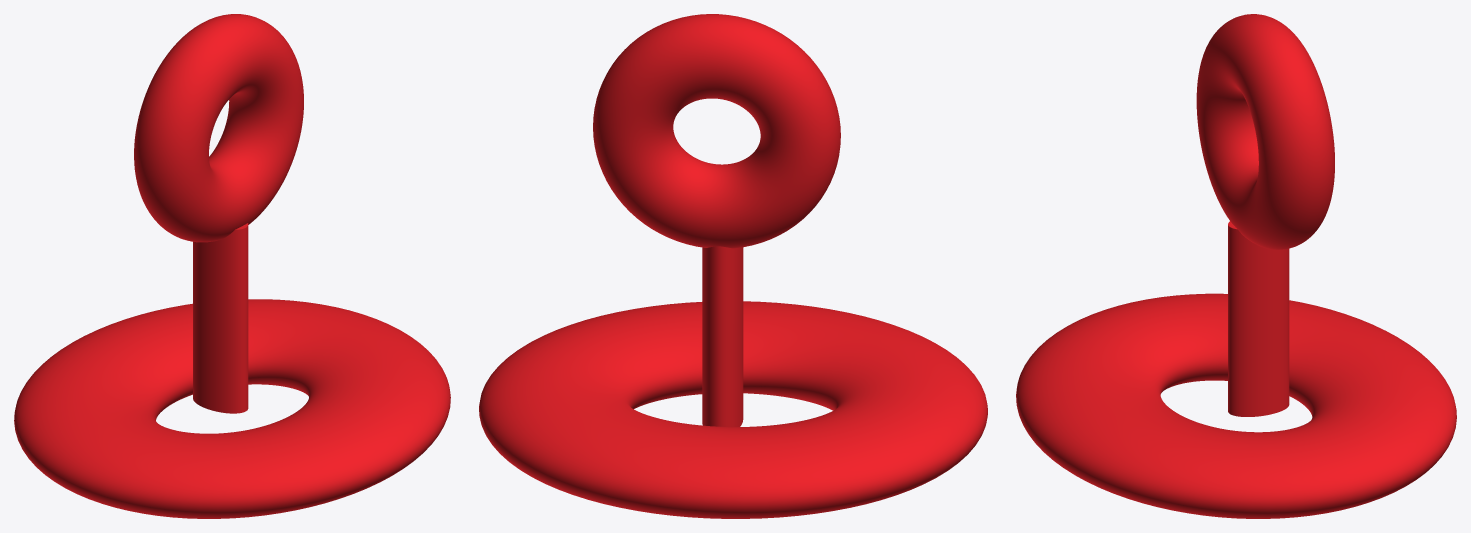
File: asset.glb
The picture shows the model from 3 angles, left to right: view 1: azimuth 30°, elevation 25°; view 2: azimuth 150°, elevation 25°; view 3: azimuth 270°, elevation 25°; orthographic projection. The views are drawn at different scales.
Parts seen in each view (by area): view 1: mesh_id28, mesh_id26, mesh_id27; view 2: mesh_id28, mesh_id26, mesh_id27; view 3: mesh_id28, mesh_id26, mesh_id27.
Part boxes in pixels (bbox=[...]): mesh_id28: bbox=[14, 299, 450, 518]; mesh_id26: bbox=[134, 14, 303, 242]; mesh_id27: bbox=[193, 223, 248, 413]; mesh_id28: bbox=[479, 301, 987, 518]; mesh_id26: bbox=[593, 14, 840, 248]; mesh_id27: bbox=[702, 246, 743, 426]; mesh_id28: bbox=[1016, 293, 1456, 518]; mesh_id26: bbox=[1196, 14, 1334, 249]; mesh_id27: bbox=[1228, 221, 1289, 416].
Bounding box in the file's own units: 0.2578 × 0.2497 × 0.2411.
3 materials, 3 textured.
